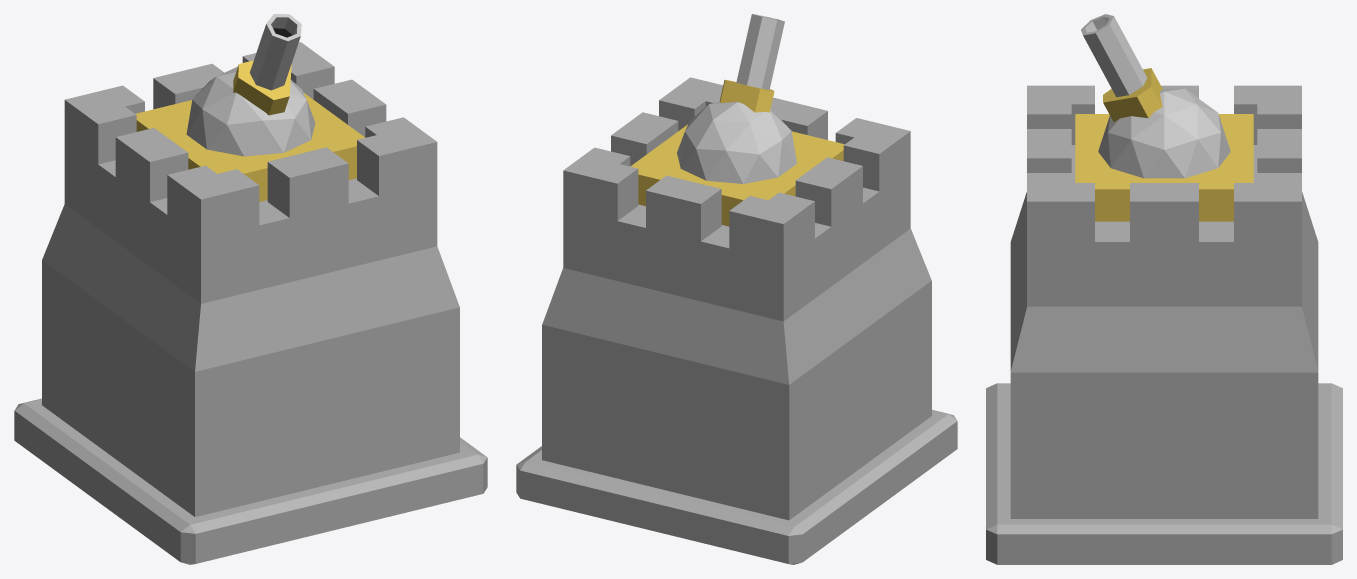
Rendered from mortar.fbx.
3 views of the same model, side by side, from view 1: azimuth 30°, elevation 25°; view 2: azimuth 150°, elevation 25°; view 3: azimuth 270°, elevation 25° (orthographic). The views are drawn at different scales.
Visible parts, largest first — view 1: Cube.042, Cube.041, Cube, Icosphere.001, Cube.043, Cylinder.004, Cylinder.006; view 2: Cube.042, Cube.041, Cube, Icosphere.001, Cube.043, Cylinder.004, Cylinder.006; view 3: Cube.042, Cube, Cube.041, Icosphere.001, Cube.043, Cylinder.004, Cylinder.006.
Boxes of the visible parts, <box> form: Cube.042: <box>42,140,459,516</box>; Cube.041: <box>64,42,437,239</box>; Cube: <box>14,398,487,564</box>; Icosphere.001: <box>186,66,315,156</box>; Cube.043: <box>135,92,365,201</box>; Cylinder.004: <box>249,14,301,90</box>; Cylinder.006: <box>233,60,291,115</box>; Cube.042: <box>542,169,931,520</box>; Cube.041: <box>563,77,910,261</box>; Cube: <box>516,410,957,564</box>; Icosphere.001: <box>677,102,796,183</box>; Cube.043: <box>630,124,844,226</box>; Cylinder.004: <box>736,14,784,89</box>; Cylinder.006: <box>719,79,774,112</box>; Cube.042: <box>1010,145,1318,518</box>; Cube: <box>986,383,1342,564</box>; Cube.041: <box>1027,85,1301,241</box>; Icosphere.001: <box>1098,88,1230,178</box>; Cube.043: <box>1075,114,1253,221</box>; Cylinder.004: <box>1081,14,1147,97</box>; Cylinder.006: <box>1103,68,1162,121</box>.
Bounding box in the file's own units: 400 × 590 × 400.
